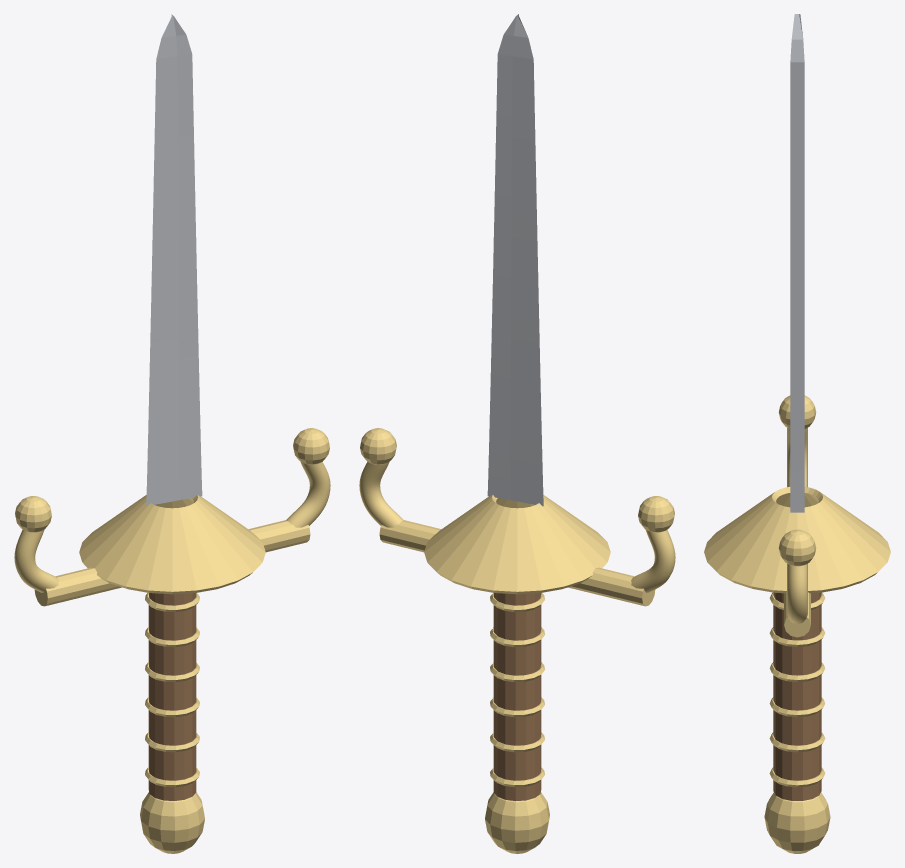
File: parierdolch.glb
3 renders of one model, left to right at view 1: azimuth 30°, elevation 25°; view 2: azimuth 150°, elevation 25°; view 3: azimuth 270°, elevation 25°, orthographic.
Visible parts, largest first — view 1: G_parierdolch; view 2: G_parierdolch; view 3: G_parierdolch.
Part boxes in pixels (x1,y1,x2,y2): G_parierdolch: (14, 14, 330, 853); G_parierdolch: (359, 14, 675, 853); G_parierdolch: (704, 14, 890, 853).
Size of the model in its own units: 0.2028 by 0.5173 by 0.1047.
